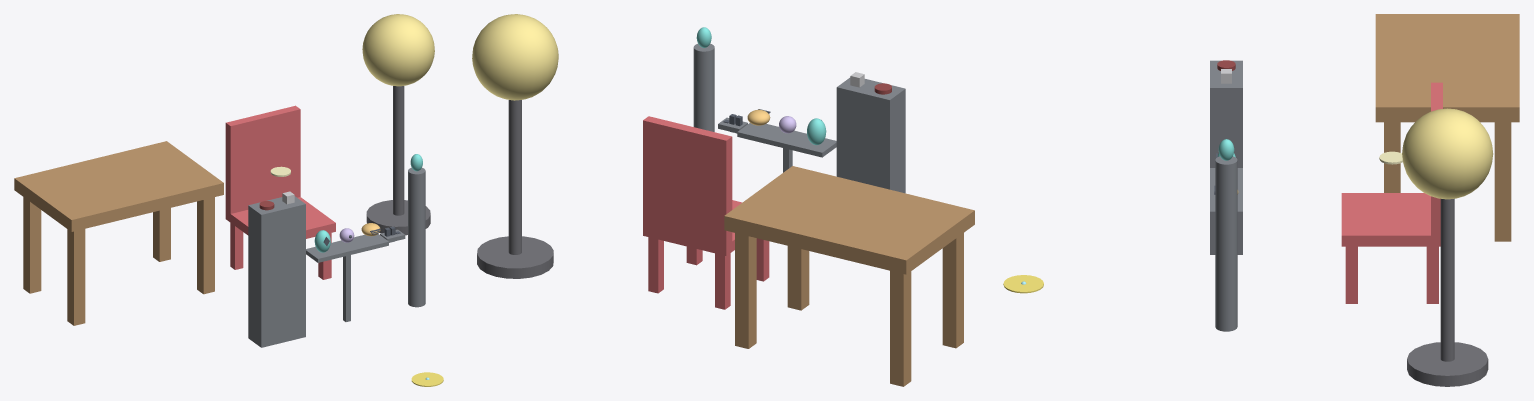
File: RoomOrchestra.unity.glb
3 views of the same model, side by side, from view 1: azimuth 30°, elevation 25°; view 2: azimuth 150°, elevation 25°; view 3: azimuth 270°, elevation 25° (orthographic). The views are drawn at different scales.
Parts seen in each view (by area): view 1: Top, Pedestal (×2), Leg (×5), Back, Shade, Pole, TraySlab, Seat, Base, TrayPost, LandingRing; view 2: Top, Leg (×7), Back, Pedestal (×2), Shade, Base, Pole, TraySlab, Seat, Token_Flutter; view 3: Top, Pedestal (×2), Shade, Seat, Leg (×4), Base, Pole, Back, LandingRing, TraySlab.
Boxes of the visible parts, x1=… form: Top: x1=14, y1=141, x2=223, y2=231; Pedestal (×2): x1=248, y1=167, x2=425, y2=347; Leg (×5): x1=23, y1=197, x2=243, y2=325; Back: x1=225, y1=105, x2=300, y2=213; Shade: x1=362, y1=14, x2=434, y2=86; Pole: x1=393, y1=86, x2=404, y2=215; TraySlab: x1=306, y1=234, x2=388, y2=262; Seat: x1=225, y1=197, x2=335, y2=238; Base: x1=366, y1=200, x2=430, y2=235; TrayPost: x1=343, y1=255, x2=350, y2=321; LandingRing: x1=411, y1=372, x2=443, y2=386; Top: x1=724, y1=166, x2=974, y2=274; Leg (×7): x1=648, y1=233, x2=963, y2=386; Back: x1=643, y1=116, x2=732, y2=245; Pedestal (×2): x1=693, y1=43, x2=905, y2=193; Shade: x1=472, y1=14, x2=558, y2=100; Base: x1=477, y1=236, x2=553, y2=278; Pole: x1=508, y1=100, x2=521, y2=254; TraySlab: x1=737, y1=123, x2=836, y2=157; Seat: x1=643, y1=200, x2=741, y2=255; Token_Flutter: x1=807, y1=118, x2=826, y2=145; Top: x1=1375, y1=14, x2=1519, y2=122; Pedestal (×2): x1=1210, y1=60, x2=1242, y2=331; Shade: x1=1402, y1=108, x2=1493, y2=199; Seat: x1=1341, y1=193, x2=1440, y2=246; Leg (×4): x1=1345, y1=122, x2=1511, y2=303; Base: x1=1407, y1=342, x2=1488, y2=386; Pole: x1=1440, y1=198, x2=1454, y2=361; Back: x1=1431, y1=82, x2=1442, y2=235; LandingRing: x1=1003, y1=275, x2=1043, y2=293; TraySlab: x1=1210, y1=168, x2=1242, y2=216.
Size of what is drawn, in the model's own units: 3.05 by 1.55 by 2.8.
